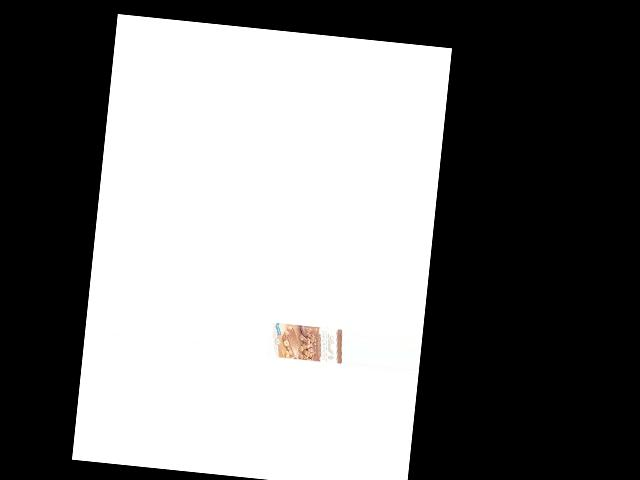chocolate: (270, 320, 342, 369)
